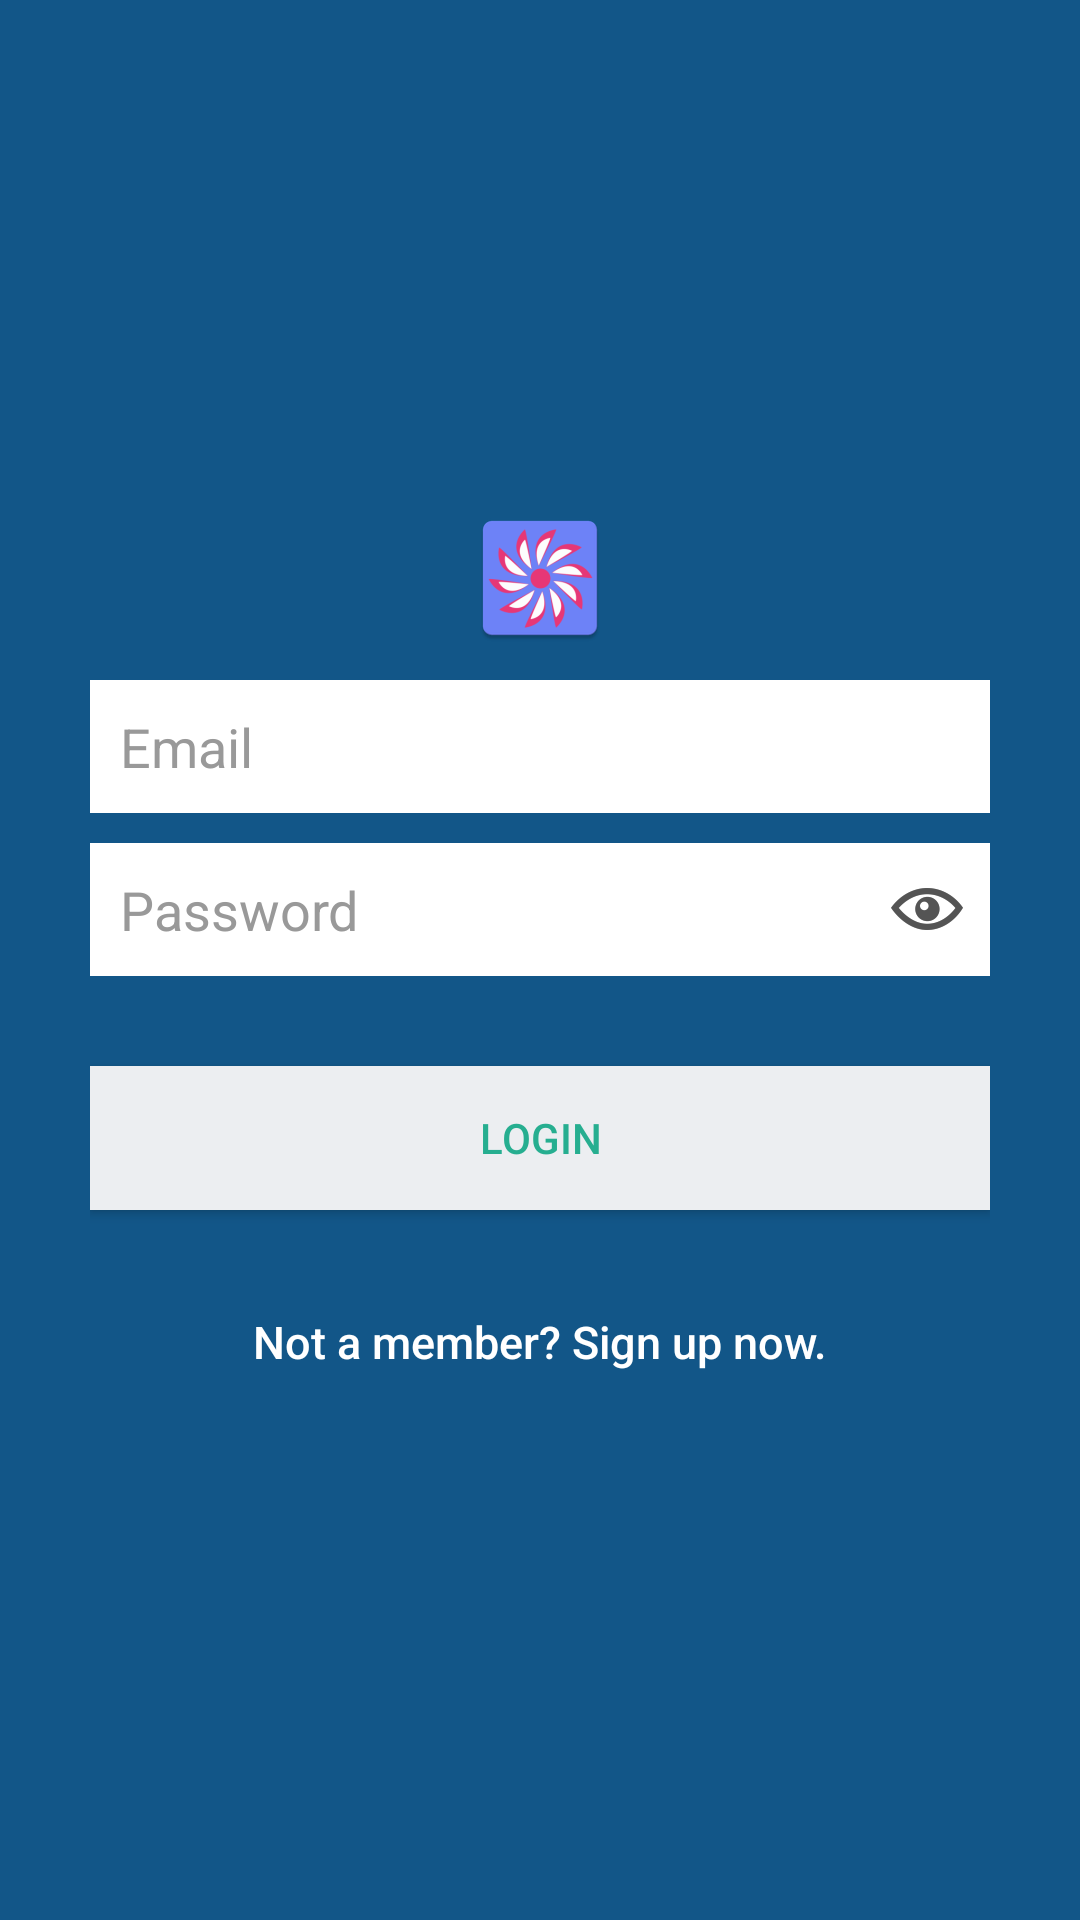

Locate icon controls on the screen. Image size 1080w x 1920h, boxes as (x1, y1, x2, y2).
see: (891, 888, 963, 930)
